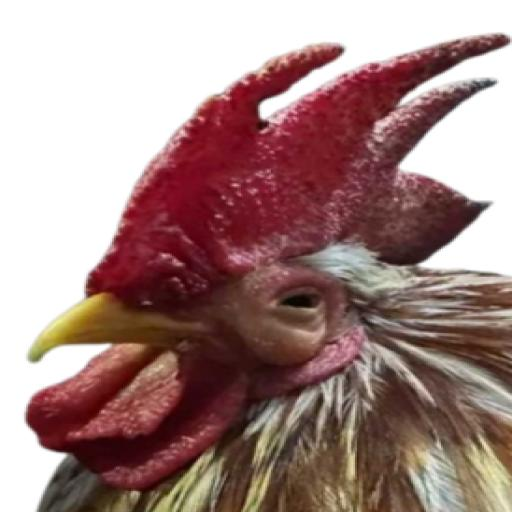disease: (211, 227, 375, 380)
